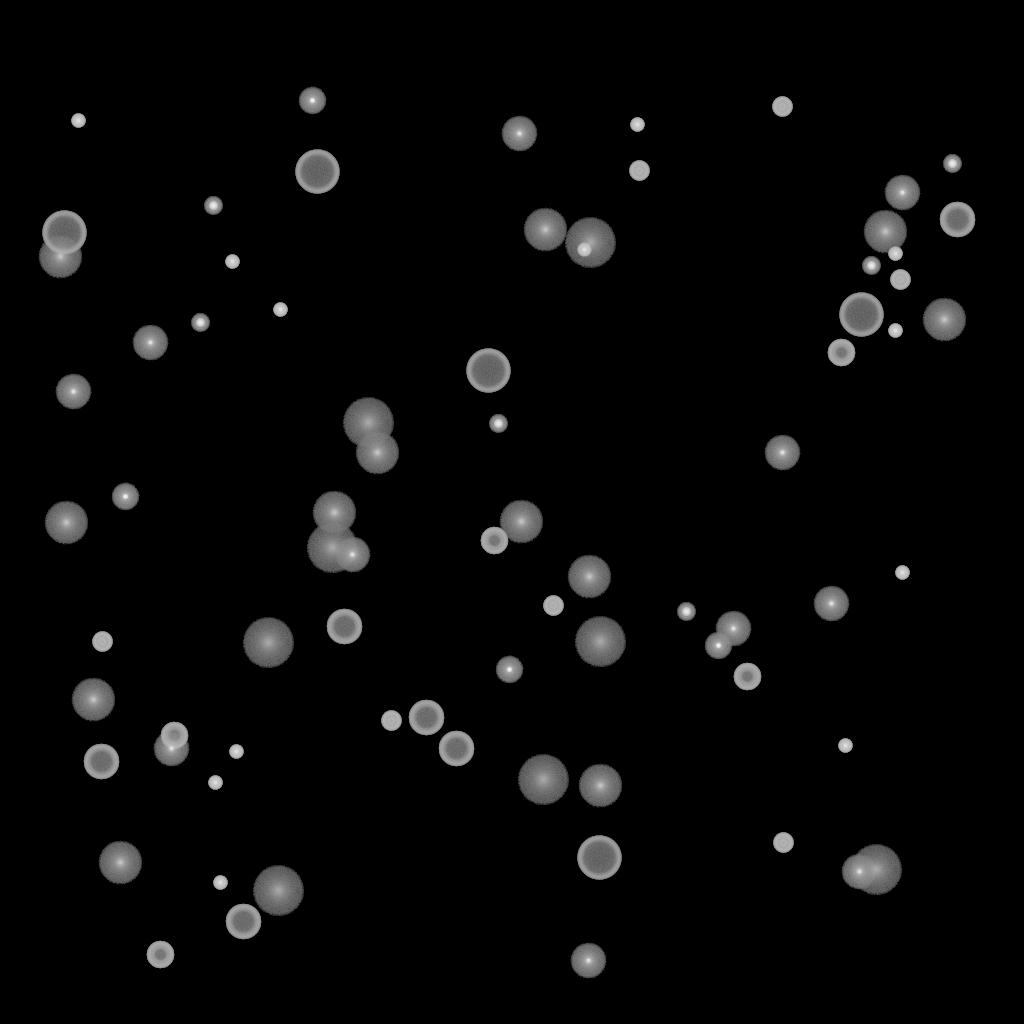depth:-10: (495, 656, 523, 684), (298, 87, 326, 115), (111, 483, 139, 511), (704, 632, 732, 660)
depth:-20: (943, 155, 961, 173), (862, 257, 880, 275), (191, 314, 209, 332), (677, 603, 695, 621), (489, 415, 507, 433), (204, 197, 222, 215)
depth:-30: (888, 247, 902, 261), (225, 255, 239, 269), (895, 566, 909, 580), (229, 745, 243, 759), (213, 876, 227, 890), (838, 739, 852, 753), (888, 324, 902, 338), (273, 303, 287, 317), (630, 118, 644, 132), (577, 243, 591, 257), (208, 776, 222, 790), (71, 114, 85, 128)
depth:-40: (92, 632, 112, 652), (772, 97, 792, 117), (890, 270, 910, 290), (773, 833, 793, 853), (629, 161, 649, 181), (543, 596, 563, 616), (381, 711, 401, 731)
depth:-50: (827, 339, 855, 367), (146, 941, 174, 969), (733, 663, 761, 691), (480, 527, 508, 555), (160, 722, 188, 750)
depth:-60: (438, 731, 474, 767), (225, 904, 261, 940), (939, 202, 975, 238), (326, 609, 362, 645), (83, 744, 119, 780), (408, 700, 444, 736)
depth:-70: (295, 150, 339, 194), (839, 293, 883, 337), (466, 349, 510, 393), (577, 836, 621, 880), (42, 211, 86, 255)
depth:0: (153, 731, 189, 767), (813, 586, 849, 622), (841, 854, 877, 890), (55, 374, 91, 410), (570, 943, 606, 979), (764, 435, 800, 471), (715, 611, 751, 647), (334, 537, 370, 573), (132, 325, 168, 361), (501, 116, 537, 152), (884, 175, 920, 211)
depth:10: (38, 235, 82, 279), (98, 841, 142, 885), (499, 500, 543, 544), (312, 491, 356, 535), (355, 431, 399, 475), (44, 501, 88, 545), (567, 555, 611, 599), (71, 678, 115, 722), (922, 298, 966, 342), (523, 208, 567, 252), (578, 764, 622, 808), (863, 210, 907, 254)
depth:20: (564, 218, 616, 268), (574, 617, 626, 667), (850, 845, 902, 895), (306, 523, 358, 573), (342, 398, 394, 448), (242, 618, 294, 668), (517, 755, 569, 805), (252, 866, 304, 916)
